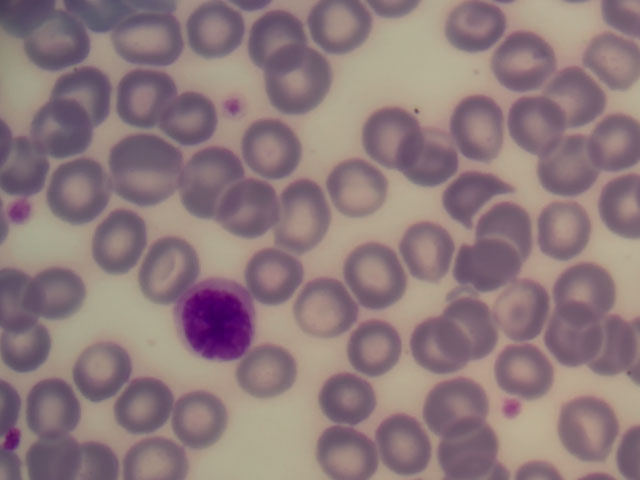Platelets: (500, 394, 530, 424), (222, 97, 253, 123), (5, 200, 32, 224), (1, 427, 26, 452)
RBC: (25, 11, 92, 74), (51, 62, 118, 125), (29, 92, 96, 155), (5, 130, 72, 193), (41, 153, 108, 216), (114, 139, 181, 202), (111, 61, 178, 124), (149, 88, 216, 151), (114, 9, 181, 72), (184, 2, 251, 65), (239, 3, 306, 66), (265, 53, 332, 116), (360, 103, 427, 166), (319, 159, 386, 222), (272, 185, 339, 248), (226, 179, 293, 242), (185, 154, 252, 217), (241, 122, 308, 185), (137, 235, 204, 298), (89, 211, 156, 274), (34, 258, 101, 321), (4, 311, 71, 374), (61, 333, 128, 396), (26, 371, 93, 434), (26, 417, 93, 480), (125, 417, 192, 480), (109, 372, 176, 435), (172, 388, 239, 451), (238, 344, 305, 407), (296, 281, 363, 344), (245, 244, 312, 307), (345, 242, 412, 305), (399, 218, 466, 281), (402, 125, 469, 188), (441, 94, 508, 157), (493, 31, 560, 94), (440, 1, 507, 64), (530, 63, 597, 126), (504, 92, 571, 155), (538, 135, 605, 198), (539, 200, 606, 263), (472, 197, 539, 260), (441, 164, 508, 227), (458, 237, 525, 300), (446, 297, 513, 360), (402, 313, 469, 376), (347, 320, 414, 383), (320, 364, 387, 427), (319, 417, 386, 480), (367, 411, 434, 474), (414, 371, 481, 434), (431, 417, 498, 480), (556, 391, 623, 454), (487, 333, 554, 396), (493, 280, 560, 343), (552, 253, 619, 316), (545, 304, 612, 367), (303, 1, 370, 63), (586, 315, 640, 369), (586, 32, 640, 86), (588, 114, 640, 164)
WBC: (178, 275, 257, 361)
